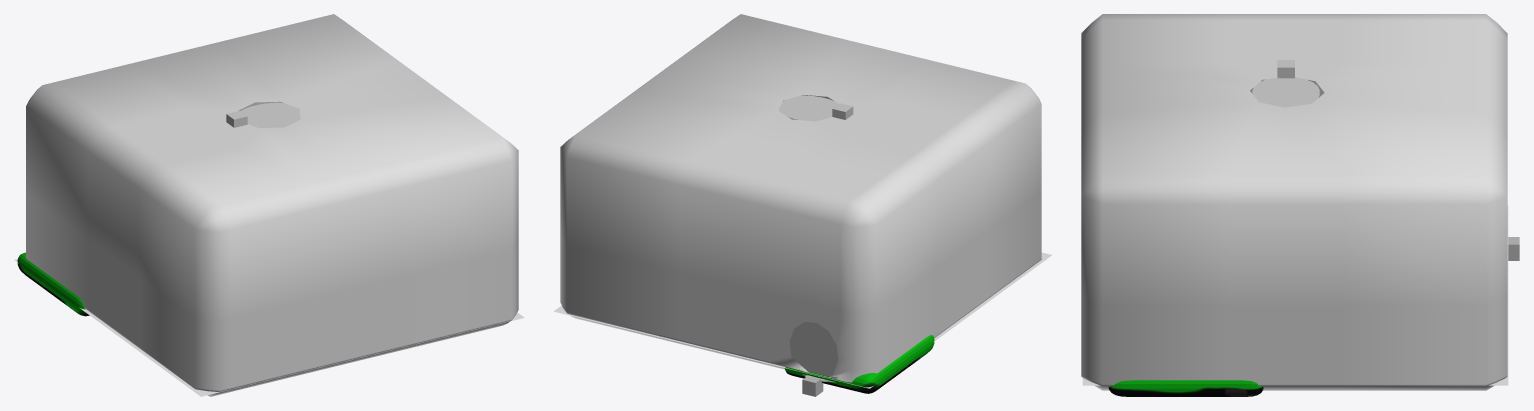
Rendered from ChocolateRoom.fbx.
The picture shows the model from 3 angles, left to right: view 1: azimuth 30°, elevation 25°; view 2: azimuth 150°, elevation 25°; view 3: azimuth 270°, elevation 25°; orthographic projection. The views are drawn at different scales.
Visible parts, largest first — view 1: Cube, CorridorCorner_Door1.002, Cube.002, Plane; view 2: Cube, CorridorLong_Door5.001, Cube.002, CorridorCorner_Door1.002, Plane; view 3: Cube, Cube.002, CorridorCorner_Door1.002, Plane.
Boxes of the visible parts, x1=… form: Cube: x1=26, y1=14, x2=518, y2=396; CorridorCorner_Door1.002: x1=241, y1=102, x2=300, y2=127; Cube.002: x1=17, y1=252, x2=89, y2=316; Plane: x1=14, y1=259, x2=524, y2=396; Cube: x1=560, y1=14, x2=1041, y2=382; CorridorLong_Door5.001: x1=789, y1=322, x2=838, y2=376; Cube.002: x1=784, y1=335, x2=934, y2=393; CorridorCorner_Door1.002: x1=778, y1=95, x2=838, y2=121; Plane: x1=554, y1=252, x2=1051, y2=388; Cube: x1=1081, y1=14, x2=1507, y2=390; Cube.002: x1=1108, y1=380, x2=1263, y2=396; CorridorCorner_Door1.002: x1=1252, y1=77, x2=1319, y2=107; Plane: x1=1082, y1=206, x2=1508, y2=385.
Size of the model in its own units: 2405 by 1420 by 2442.
